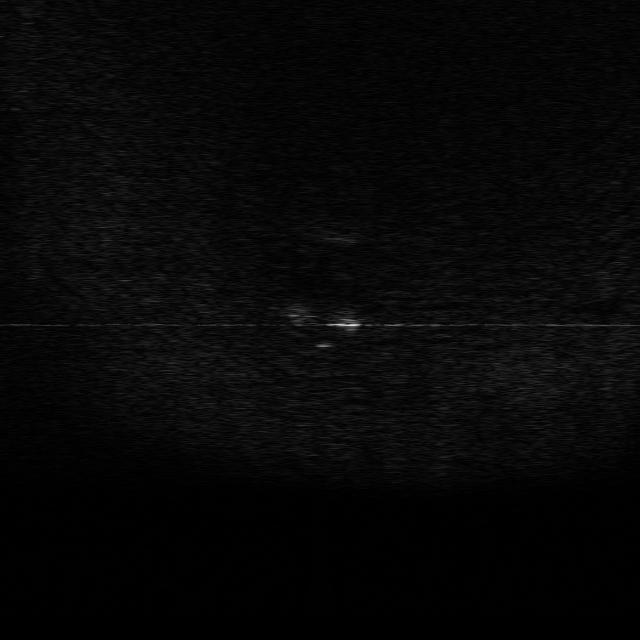plane: (281, 302, 371, 348)
